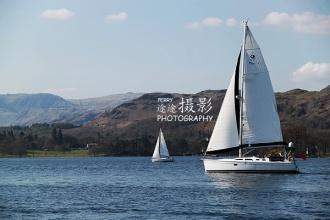fanchuan: (198, 17, 299, 175), (150, 130, 182, 165)
